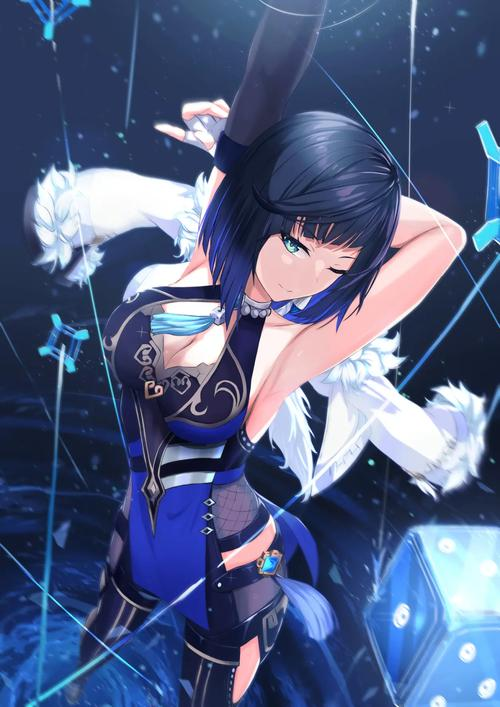夜兰: (60, 5, 469, 702)
